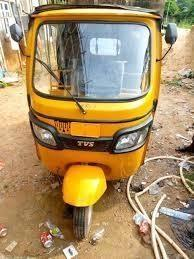keke: (23, 4, 176, 240)
